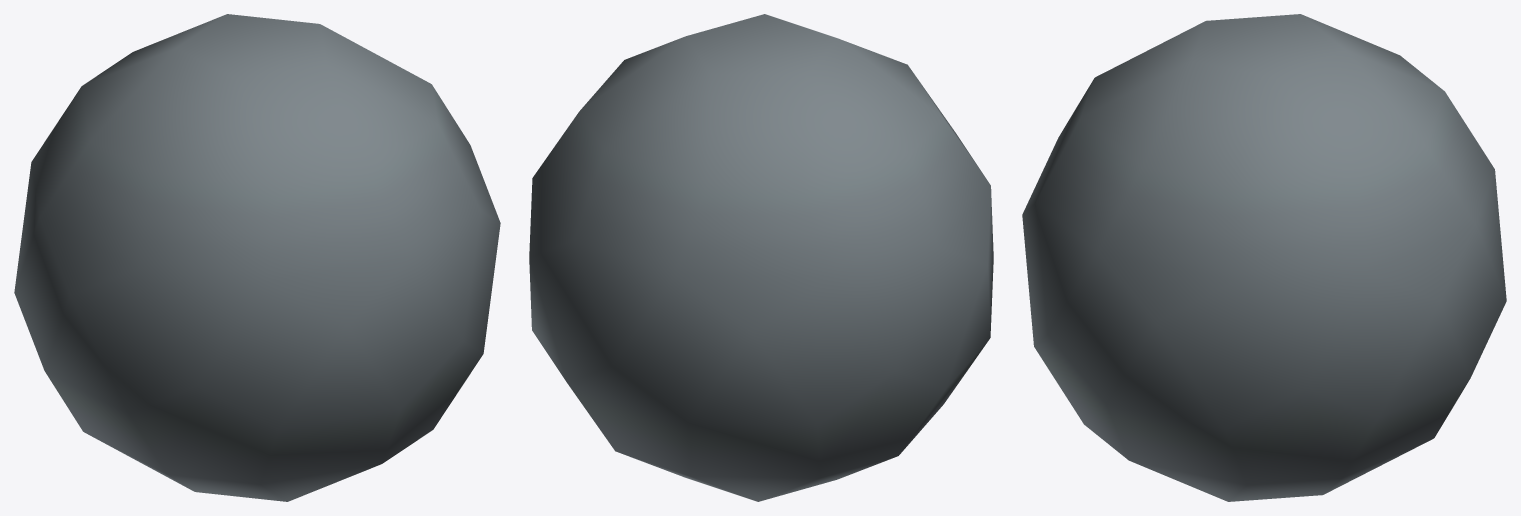
File: Boulders.fbx
The picture shows the model from 3 angles, left to right: view 1: azimuth 30°, elevation 25°; view 2: azimuth 150°, elevation 25°; view 3: azimuth 270°, elevation 25°; orthographic projection.
Visible parts, largest first — view 1: Boulders; view 2: Boulders; view 3: Boulders.
Part boxes in pixels (x1,y1,x2,y2): Boulders: (14,14,500,501); Boulders: (529,14,993,501); Boulders: (1022,14,1506,501).
Size of the model in its own units: 74.61 by 72.67 by 74.91.
